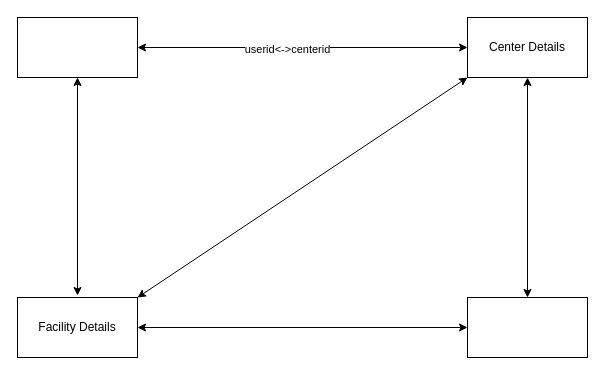
The diagram is 605 pixels wide and 375 high, and some of its shapes have lost their labels. Each missing label, with the centre of its shape:
"Appointment Schema" belongs at (x=527, y=327).
"User Details" belongs at (x=77, y=47).
